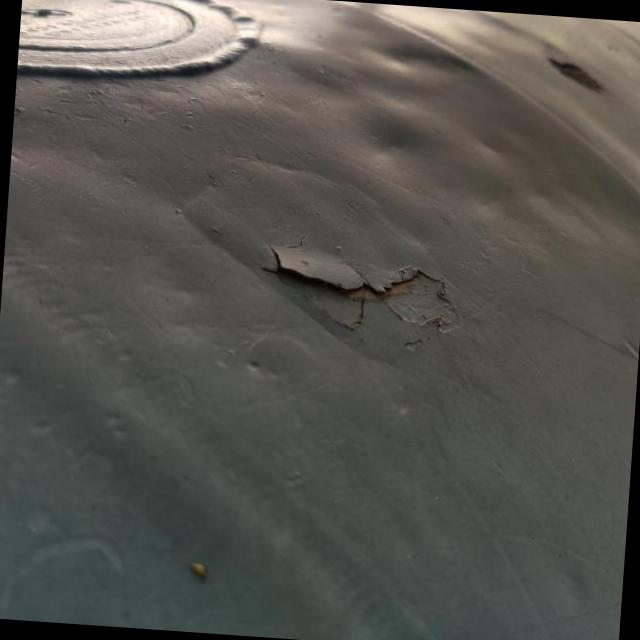Crack: (265, 242, 460, 334)
Dent: (338, 96, 451, 197), (362, 25, 494, 99)
